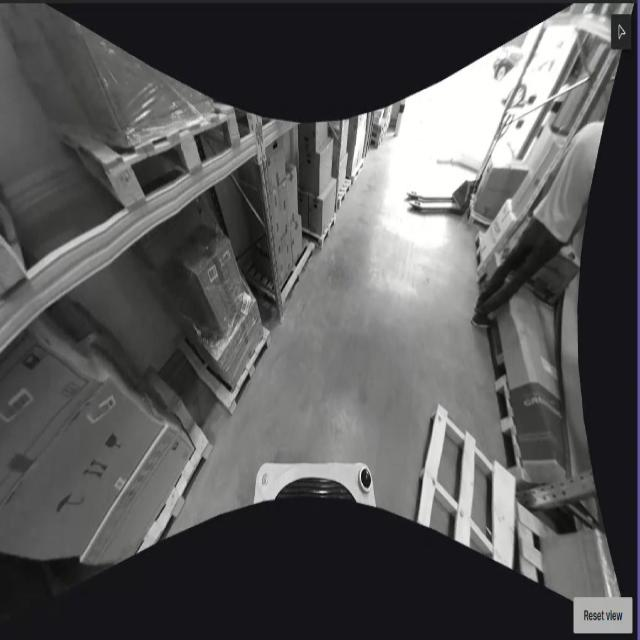Pallets-and-forklifts: (413, 406, 513, 570), (100, 100, 242, 200), (145, 390, 215, 539), (225, 324, 277, 419), (492, 370, 528, 470), (277, 234, 319, 319)
forlift: (404, 100, 516, 224)
